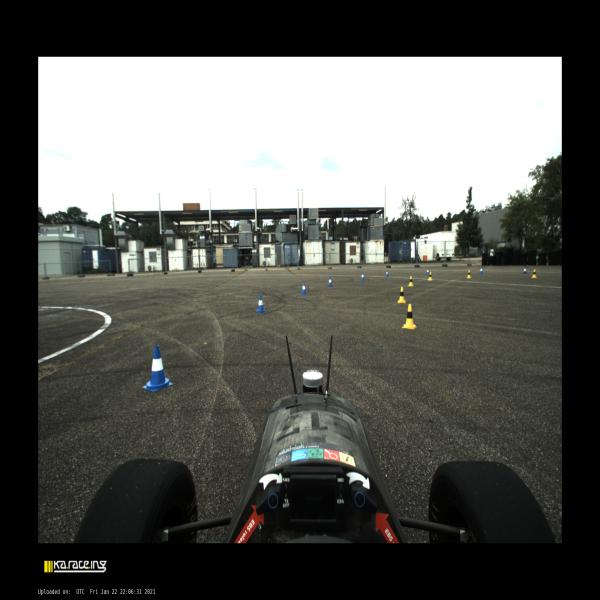blue_cone: (142, 344, 173, 392), (256, 295, 266, 313), (301, 282, 307, 294), (328, 276, 333, 286), (523, 266, 527, 274), (479, 266, 483, 274), (360, 272, 364, 280), (385, 270, 389, 277), (426, 268, 429, 274)
yellow_cone: (402, 304, 417, 329), (397, 287, 406, 303), (409, 276, 414, 286), (532, 269, 536, 278), (428, 272, 432, 280), (467, 270, 471, 278)
